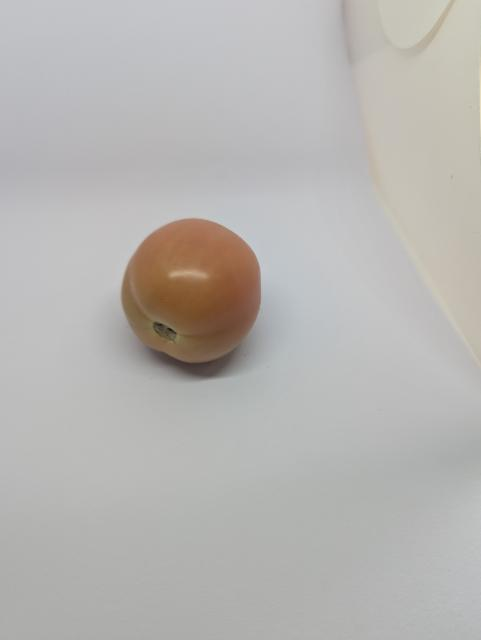turning: (115, 208, 274, 375)
